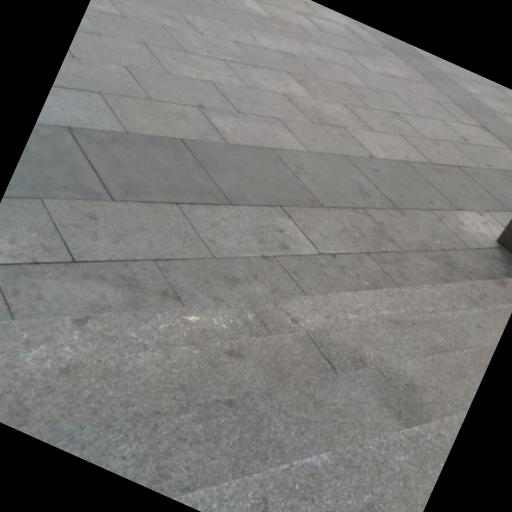stairs: (0, 279, 511, 511), (175, 411, 466, 511)
